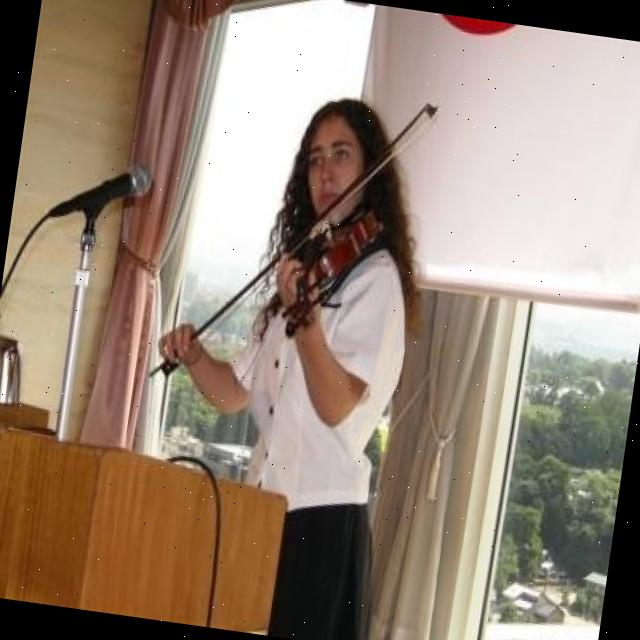violin: (280, 198, 384, 348)
